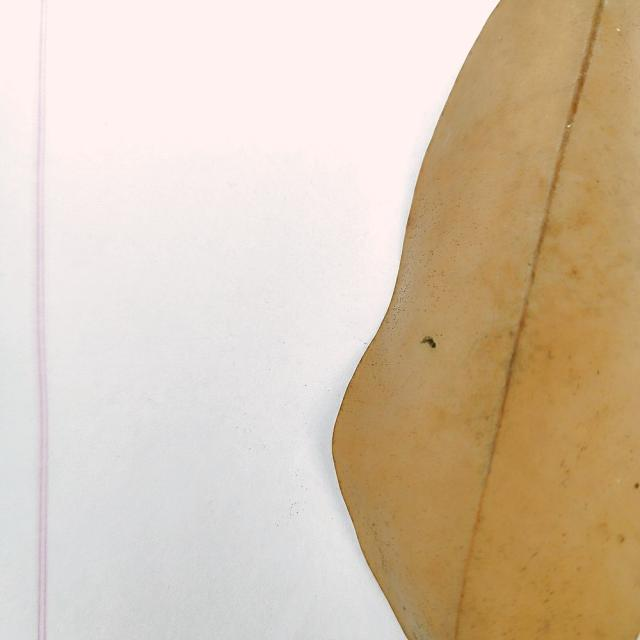Dry_Leaf-Lychee: (330, 0, 639, 639)
